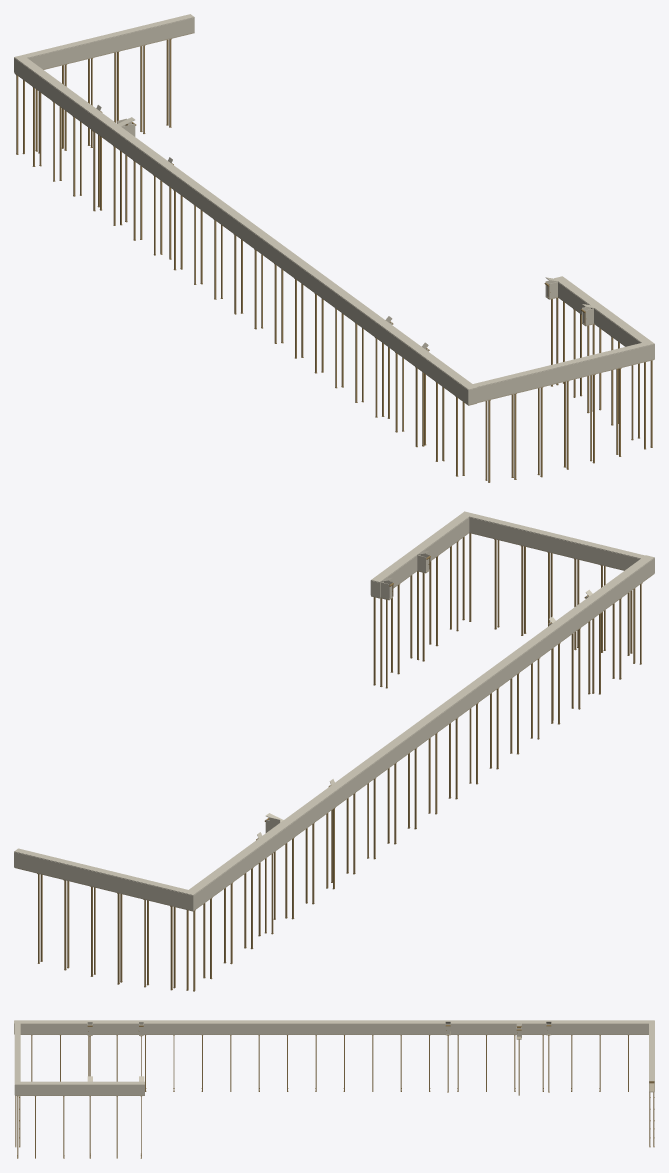
File: D04_PORT_CENTRAL_WEST_STAFF_CIRCUIT_r002.glb
3 renders of one model, top to bottom at view 1: azimuth 30°, elevation 25°; view 2: azimuth 150°, elevation 25°; view 3: azimuth 270°, elevation 25°, orthographic. The views are drawn at different scales.
Visible parts, largest first — view 1: PCW_WestEnclosure, PCW_PerimeterRoof, PCW_SouthCrossWall78.8, PCW_CrossWall-99.8, PCW_SouthEastRoof, PCW_SouthCrossRoof, PCW_CrossRoof, PCW_PerimeterFloor; view 2: PCW_WestEnclosure, PCW_PerimeterRoof, PCW_CrossWall-101.4, PCW_SouthCrossWall77.2, PCW_SouthEastRoof, PCW_SouthCrossRoof, PCW_CrossRoof, PCW_PerimeterFloor; view 3: PCW_EastEnclosure4, PCW_PerimeterRoof, PCW_SouthEastOuterWall, PCW_EastEnclosure1, PCW_EastEnclosureEndA, PCW_EastEnclosure3, PCW_PerimeterFloor, PCW_EastEnclosure5, PCW_SouthEastRoof, PCW_CrossRoof, PCW_SouthCrossRoof, PCW_EastEnclosure2.
Part boxes in pixels (box(x1,y1,x2,y2)): PCW_WestEnclosure: box(14, 57, 468, 404); PCW_PerimeterRoof: box(14, 55, 477, 389); PCW_SouthCrossWall78.8: box(477, 346, 645, 401); PCW_CrossWall-99.8: box(28, 17, 194, 69); PCW_SouthEastRoof: box(554, 276, 654, 346); PCW_SouthCrossRoof: box(473, 343, 645, 387); PCW_CrossRoof: box(23, 14, 194, 58); PCW_PerimeterFloor: box(14, 73, 477, 405); PCW_WestEnclosure: box(193, 558, 654, 910); PCW_PerimeterRoof: box(184, 555, 654, 895); PCW_CrossWall-101.4: box(14, 852, 184, 908); PCW_SouthCrossWall77.2: box(469, 517, 639, 569); PCW_SouthEastRoof: box(371, 511, 472, 582); PCW_SouthCrossRoof: box(469, 513, 644, 558); PCW_CrossRoof: box(14, 848, 187, 893); PCW_PerimeterFloor: box(184, 573, 654, 911); PCW_EastEnclosure4: box(143, 1023, 445, 1034); PCW_PerimeterRoof: box(14, 1020, 654, 1023); PCW_SouthEastOuterWall: box(15, 1085, 144, 1095); PCW_EastEnclosure1: box(551, 1023, 648, 1034); PCW_EastEnclosureEndA: box(20, 1023, 87, 1034); PCW_EastEnclosure3: box(450, 1023, 516, 1034); PCW_PerimeterFloor: box(14, 1031, 648, 1034); PCW_EastEnclosure5: box(92, 1023, 138, 1034); PCW_SouthEastRoof: box(15, 1081, 144, 1084); PCW_CrossRoof: box(649, 1023, 654, 1081); PCW_SouthCrossRoof: box(15, 1023, 20, 1081); PCW_EastEnclosure2: box(522, 1023, 546, 1034).
Size of the model in its own units: 42.92 by 24.06 by 181.
6 materials, 6 textured.
